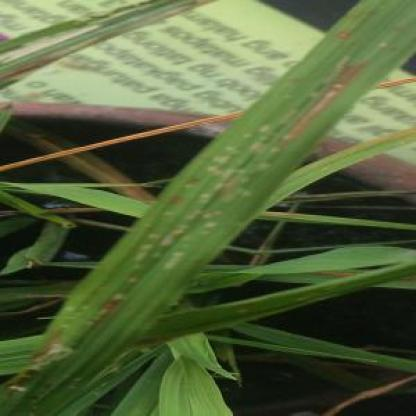Rice blast: (274, 59, 375, 151)
